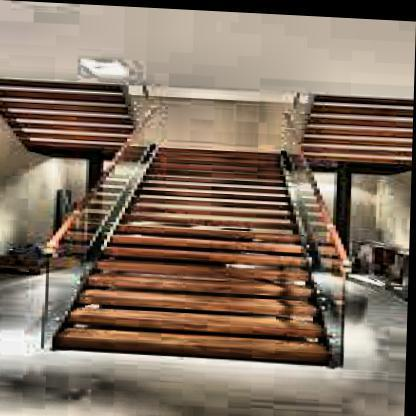stair: (91, 140, 313, 374)
